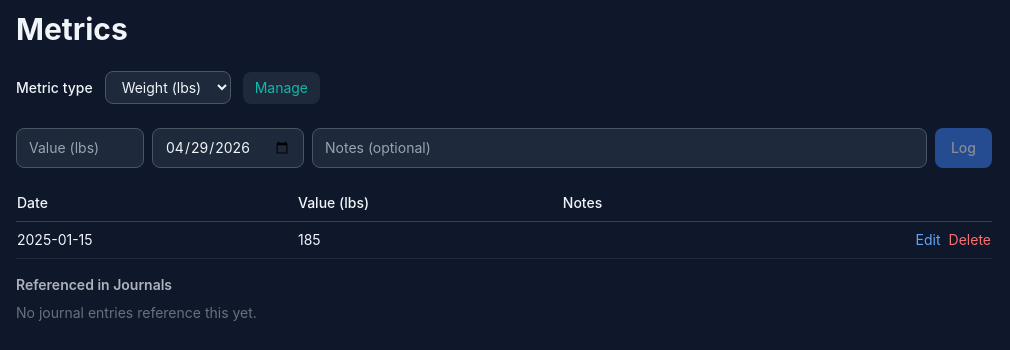
Test: Metrics › cancels editing without saving
Expected: the text "2025-01-15" is shown, [16,222,297,258]
Step 1. Click the button with aria-label "Edit entry" → (928, 240), box [916,230,941,250]
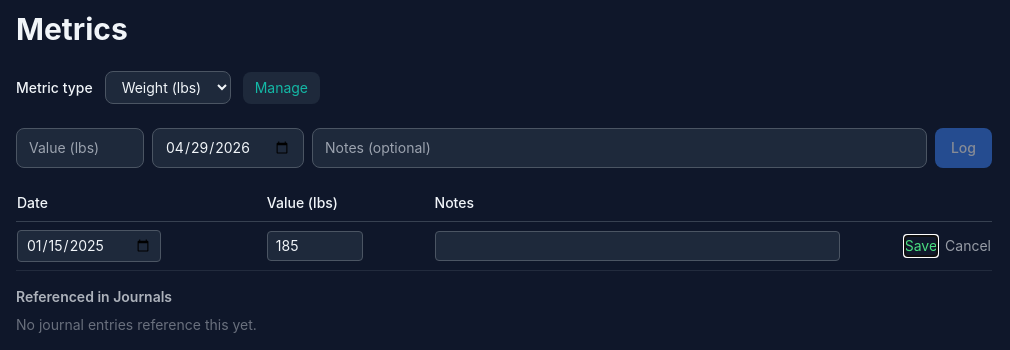
Step 2. Replace the text in the number field showing "185" with "999" → (315, 246), box [267,231,363,261]
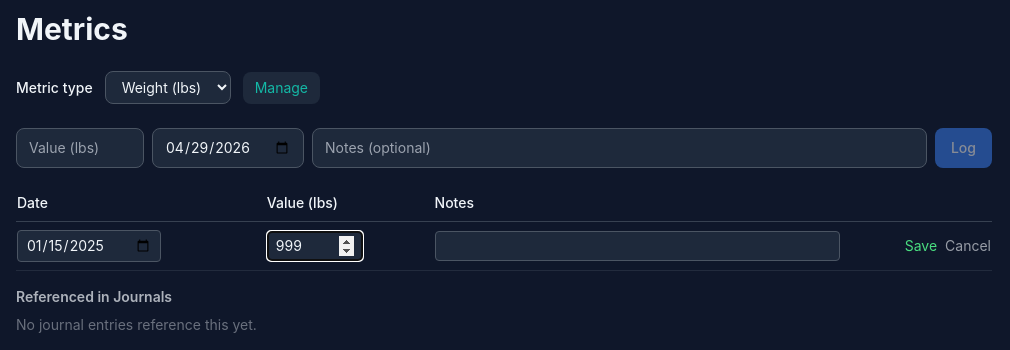
Step 3. Click the button "Cancel" → (968, 246), box [945,236,991,256]
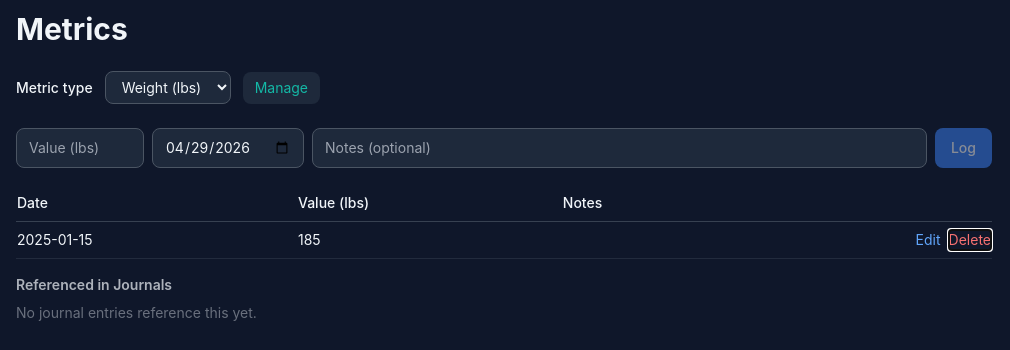
Expected: the text "185" is shown, [297,222,562,258]
